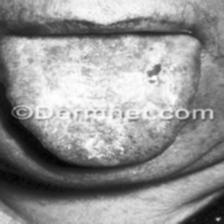Non-Cancerous Skin Condition: (45, 68, 146, 106)
